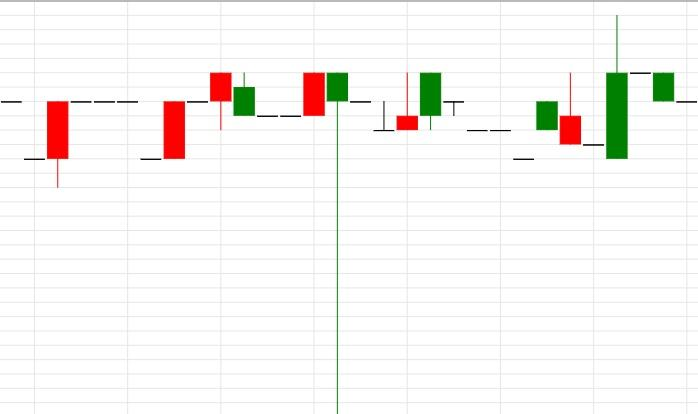hanging_man_fall: (139, 72, 348, 414)
inverse_hammer_rise: (326, 72, 419, 414)
